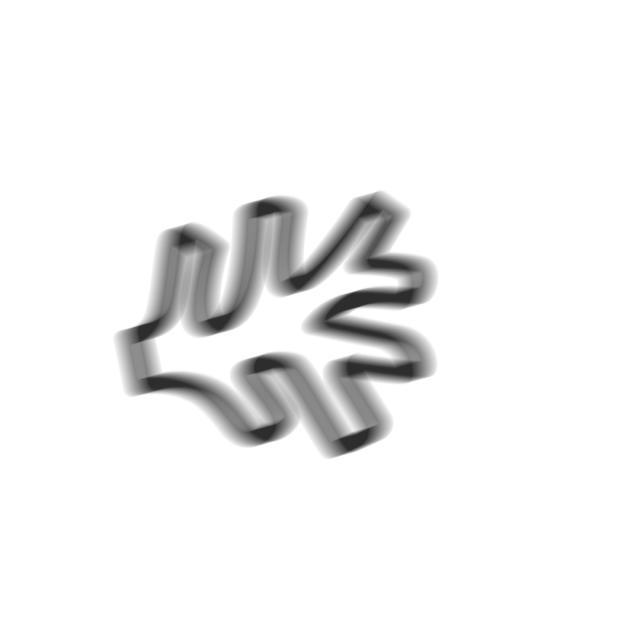coral: (109, 184, 449, 468)
